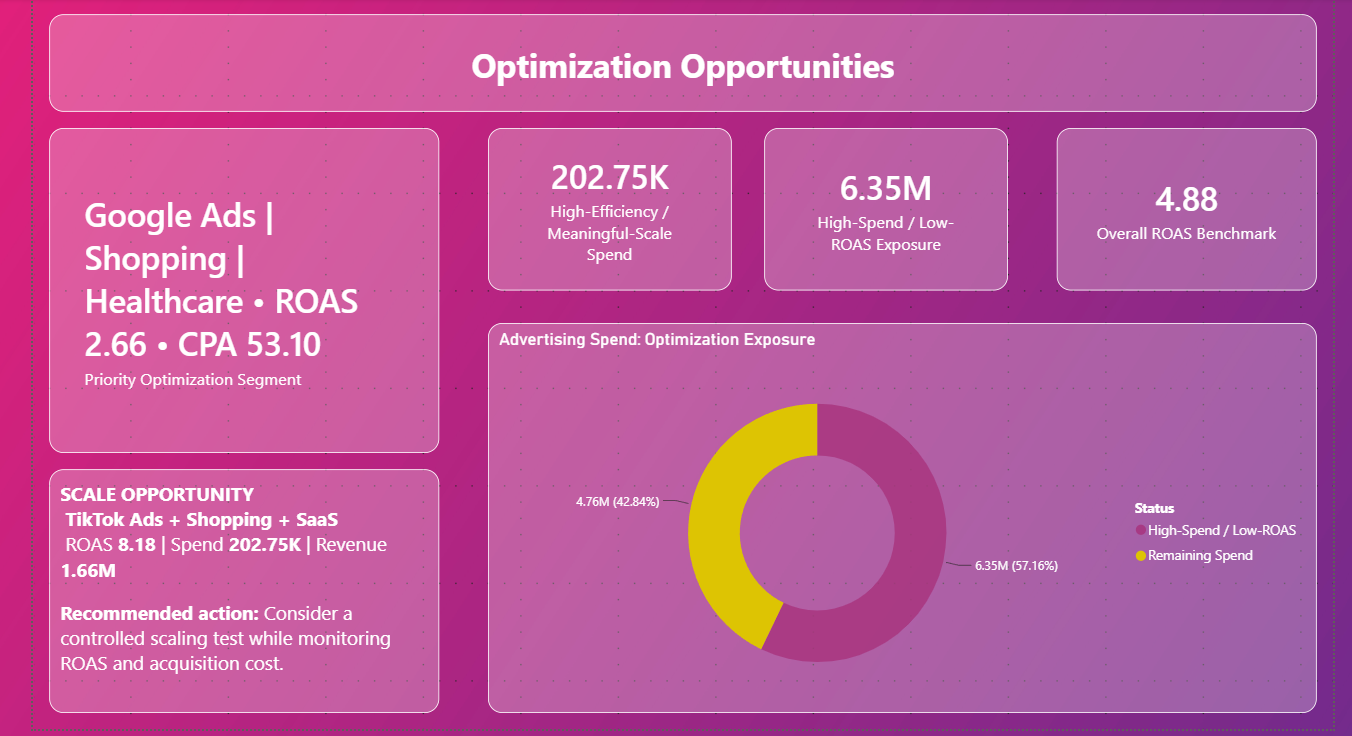

Layout of this report page (visuals, bound fields, positions):
{"tool":"powerbi","page":{"name":"Optimization Opportunities","canvas":[1280,720],"ordinal":3},"visuals":[{"type":"textbox","box":[16,16,1248,96],"z":0},{"type":"cardVisual","fields":{"Data":["global_ads_performance_prepared.High-Spend Low-ROAS Spend"]},"box":[720,128,240,160],"z":1000},{"type":"cardVisual","fields":{"Data":["global_ads_performance_prepared.ROAS Measure"]},"box":[1008,128,256,160],"z":2000},{"type":"cardVisual","fields":{"Data":["global_ads_performance_prepared.High-Efficiency Segment Spend"]},"box":[448,128,240,160],"z":3000},{"type":"donutChart","title":"Advertising Spend: Optimization Exposure","fields":{"Category":["Optimization Status.Status"],"Y":["Optimization Status.Optimization Spend"]},"box":[448,320,816,384],"z":4000},{"type":"cardVisual","fields":{"Data":["Optimization Status.Optimization Priority"]},"box":[16,128,384,320],"z":5000},{"type":"textbox","box":[16,464,384,240],"z":6000}]}

Visuals, with their boxes in screenshot pixels (x1, y1, x2, y2):
textbox: [48,13,1306,109]
cardVisual - global_ads_performance_prepared.High-Spend Low-ROAS Spend: [757,125,999,287]
cardVisual - global_ads_performance_prepared.ROAS Measure: [1048,125,1306,287]
cardVisual - global_ads_performance_prepared.High-Efficiency Segment Spend: [483,125,725,287]
"Advertising Spend: Optimization Exposure" donutChart: [483,319,1306,706]
cardVisual - Optimization Status.Optimization Priority: [48,125,435,448]
textbox: [48,464,435,706]
